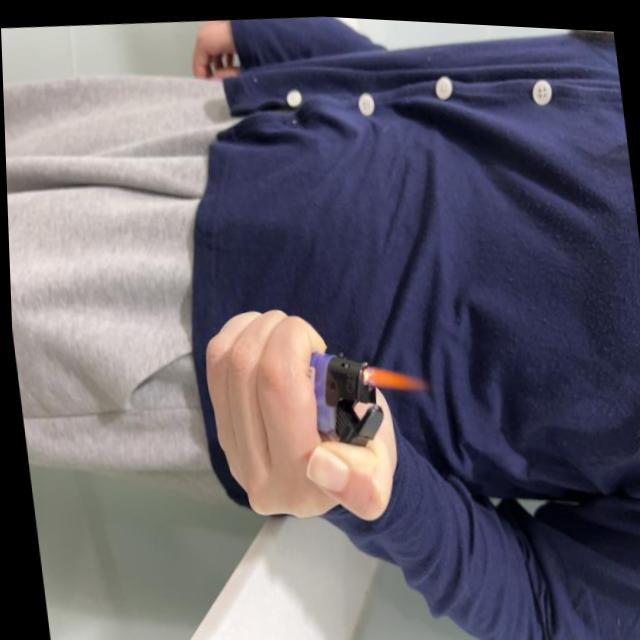Fire: (357, 355, 429, 394)
